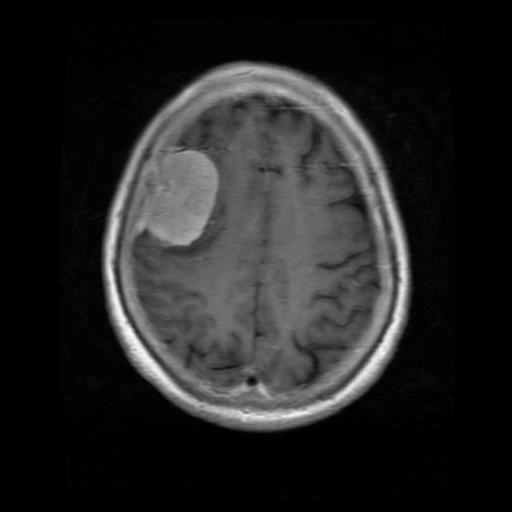Tumour-Meningioma: (134, 106, 232, 264)
